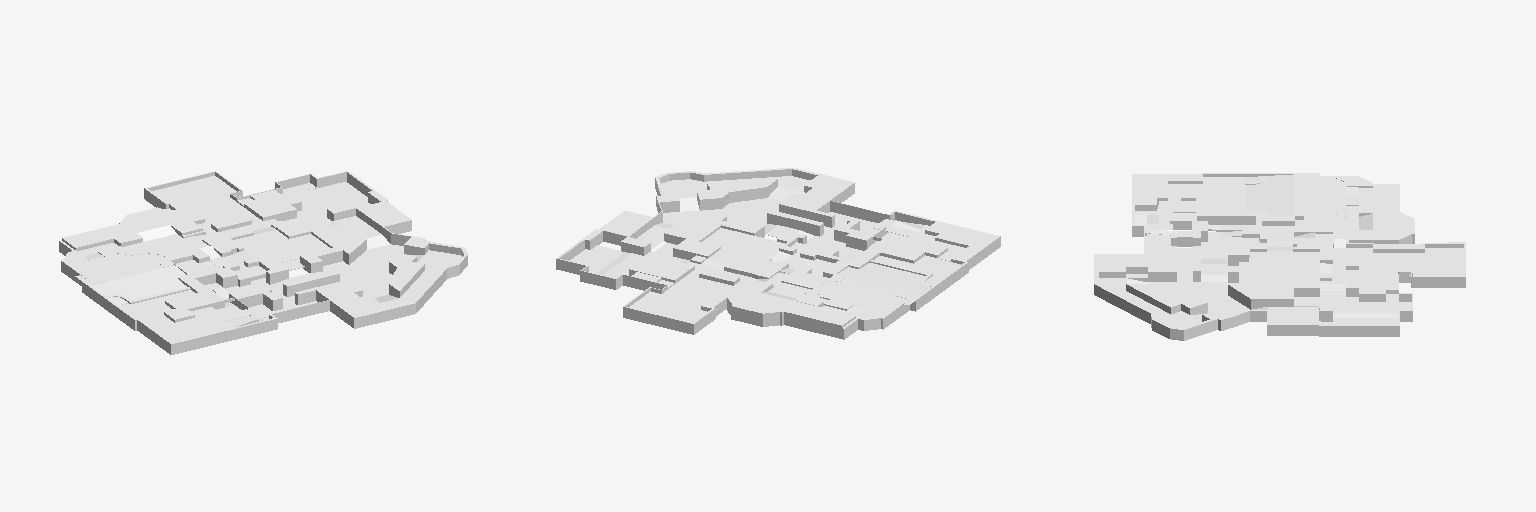
Rendered from Level_Kevlar_02.obj.
The picture shows the model from 3 angles: view 1: azimuth 30°, elevation 25°; view 2: azimuth 150°, elevation 25°; view 3: azimuth 270°, elevation 25°; orthographic projection.
Visible parts, largest first — view 1: Level_Kevlar_02; view 2: Level_Kevlar_02; view 3: Level_Kevlar_02.
Boxes of the visible parts, <box> form: Level_Kevlar_02: <box>59,171,467,354</box>; Level_Kevlar_02: <box>556,167,1000,339</box>; Level_Kevlar_02: <box>1094,173,1465,340</box>.
Size of the model in its own units: 850 by 35.58 by 848.